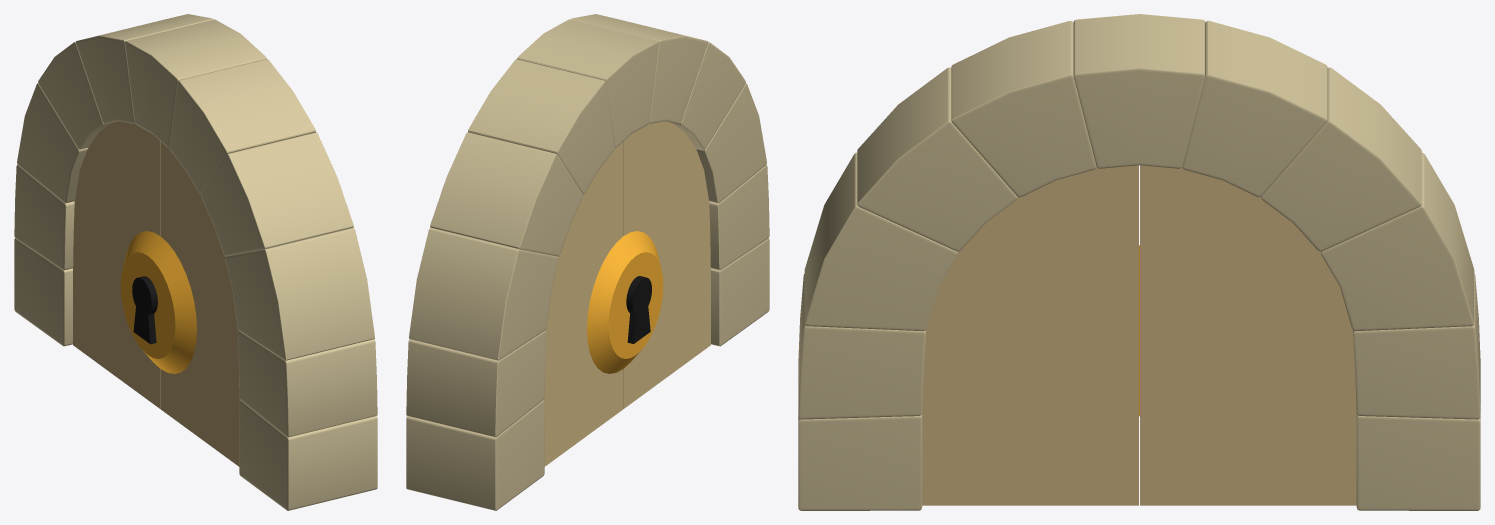
The model's file is PortaDouble.fbx.
The picture shows the model from 3 angles, left to right: view 1: azimuth 30°, elevation 25°; view 2: azimuth 150°, elevation 25°; view 3: azimuth 270°, elevation 25°; orthographic projection. The views are drawn at different scales.
Parts seen in each view (by area): view 1: Door, LeftPanel, RightPanel, Locked Door, EntradaBlack; view 2: Door, RightPanel, LeftPanel, Locked Door, EntradaBlack; view 3: Door, RightPanel, LeftPanel.
Part boxes in pixels (bbox=[...]): Door: bbox=[14, 14, 377, 510]; LeftPanel: bbox=[73, 121, 160, 408]; RightPanel: bbox=[160, 142, 240, 466]; Locked Door: bbox=[120, 231, 196, 373]; EntradaBlack: bbox=[132, 276, 157, 344]; Door: bbox=[406, 14, 769, 510]; RightPanel: bbox=[623, 121, 710, 408]; LeftPanel: bbox=[543, 142, 623, 466]; Locked Door: bbox=[587, 231, 663, 373]; EntradaBlack: bbox=[626, 276, 651, 343]; Door: bbox=[798, 14, 1480, 510]; RightPanel: bbox=[922, 165, 1138, 505]; LeftPanel: bbox=[1140, 165, 1356, 505].
Size of the model in its own units: 365 by 76.08 by 261.
